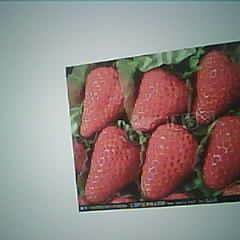straw-ripe: (142, 123, 197, 198), (85, 126, 139, 202), (132, 68, 189, 132), (80, 66, 132, 136), (194, 51, 239, 123), (203, 115, 240, 187)
